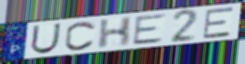2: (168, 7, 199, 46)
C: (63, 20, 97, 52)
E: (131, 12, 169, 46), (202, 6, 235, 40)
H: (96, 15, 135, 50)
U: (29, 22, 63, 55)
